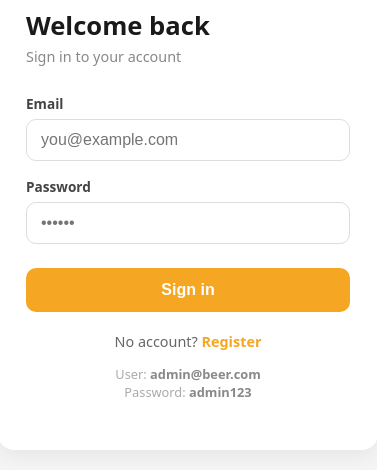
Test: LoginPage › deshabilita el botón mientras carga
Type "admin@beer.com" into the field labelled "Email".
click(188, 140); type("admin@beer.com")  # box [26,119,350,161]
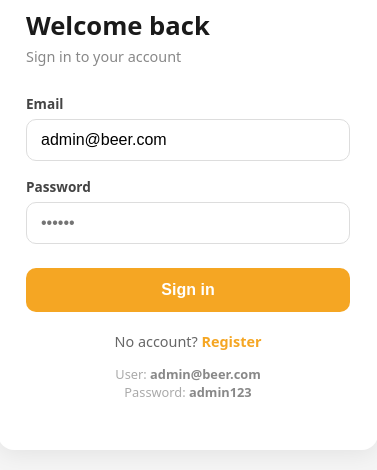
Type "admin123" into the password field labelled "Password".
click(188, 223); type("admin123")  # box [26,202,350,244]
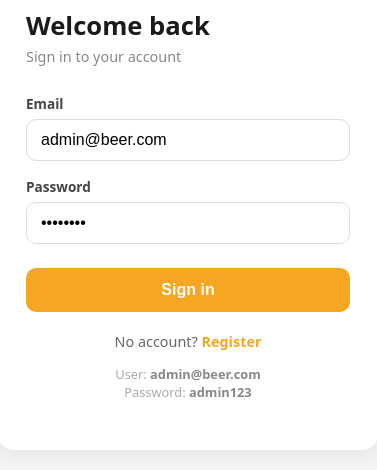
Click the button "Sign in".
click(188, 290)  # box [26,268,350,312]
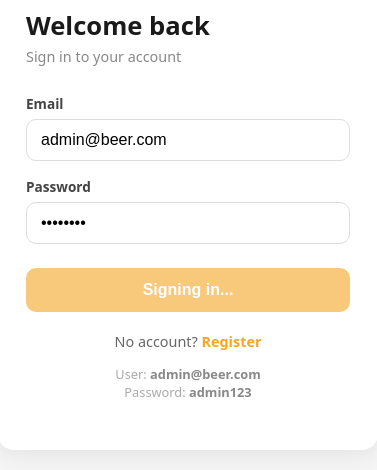
Check: the button "Signing in..." is disabled, box [26,268,350,312]
